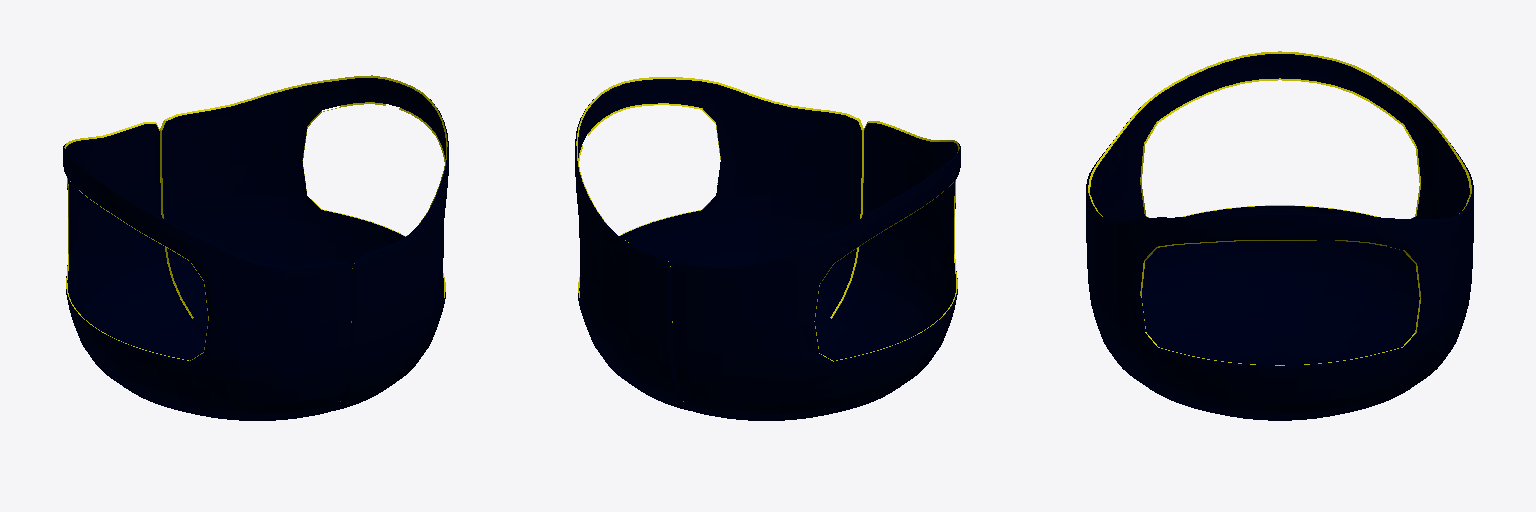
File: pants.obj
The picture shows the model from 3 angles: view 1: azimuth 30°, elevation 25°; view 2: azimuth 150°, elevation 25°; view 3: azimuth 270°, elevation 25°; orthographic projection.
Visible parts, largest first — view 1: body:Meshgroup; view 2: body:Meshgroup; view 3: body:Meshgroup, body:MeshpolySurface4.
Part boxes in pixels (x1,y1,x2,y2): body:Meshgroup: (63,75,448,420); body:Meshgroup: (575,77,960,420); body:Meshgroup: (1086,51,1473,420); body:MeshpolySurface4: (1140,93,1417,364).
Bounding box in the file's own units: 2.52 × 1.78 × 2.54.